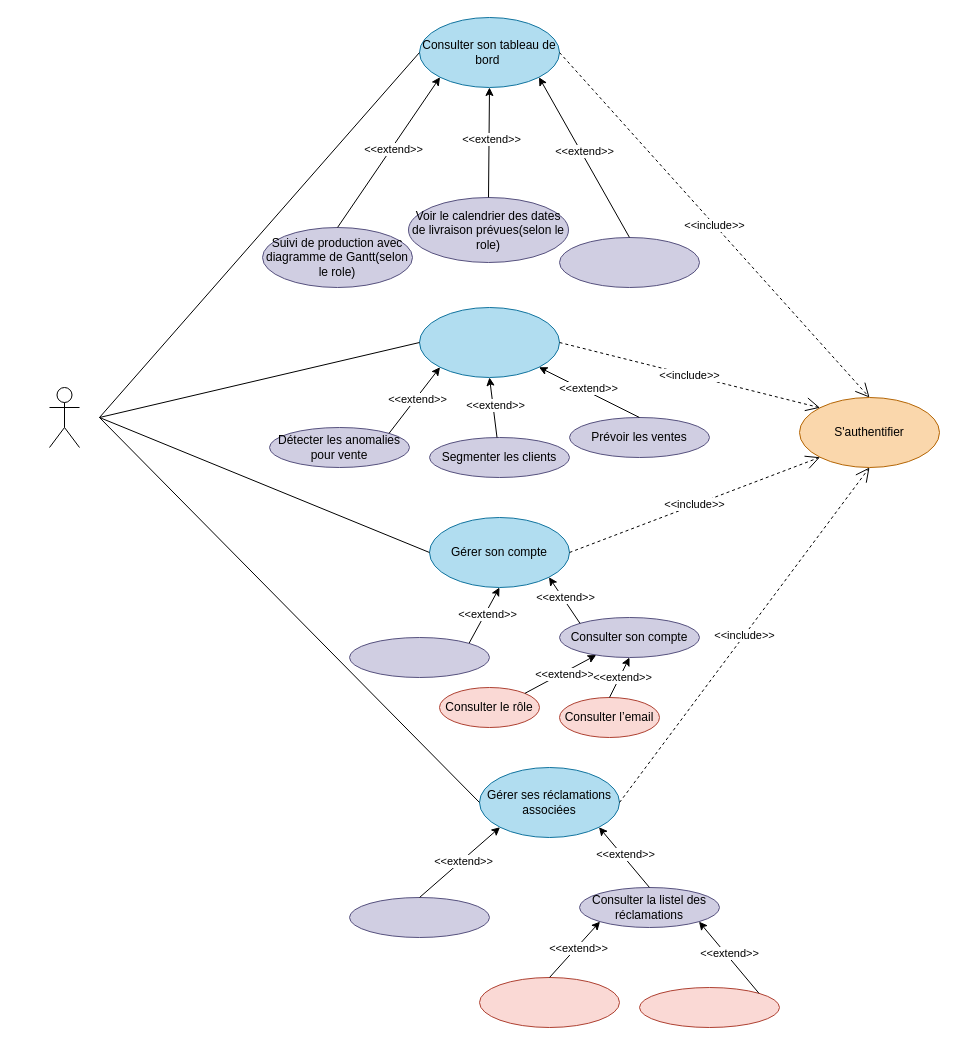
The diagram is 957 pixels wide and 1045 high, and some of its shapes have lost their labels. Here are the shapes that lost their labels. From the top down, the centre of each, then its label:
At point (629, 262): "Suivre son tableau de bord associe".
At point (489, 342): "Utiliser les modelés de machine learning".
At point (64, 417): "Les responsables".
At point (419, 657): "Modifier le mot de passe".
At point (419, 917): "Ajouter une réclamation".
At point (549, 1002): "Ajouter une réponse".
At point (709, 1007): "Modifier une réponse".
